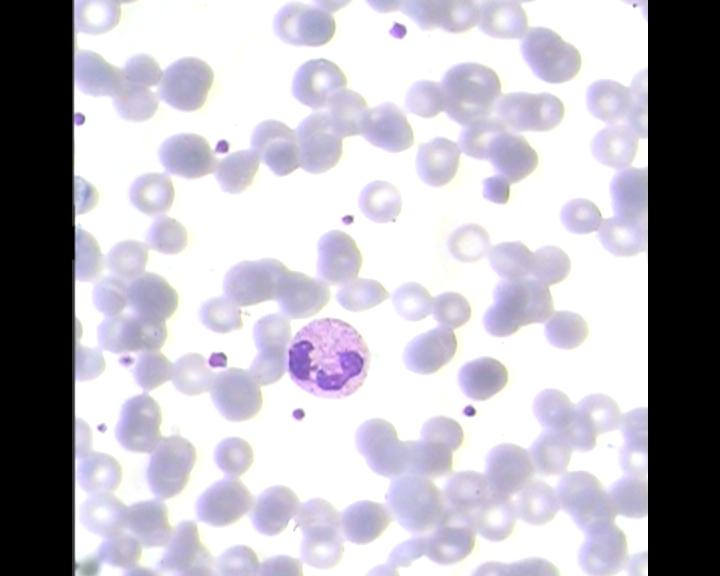neut: (284, 314, 369, 402)
